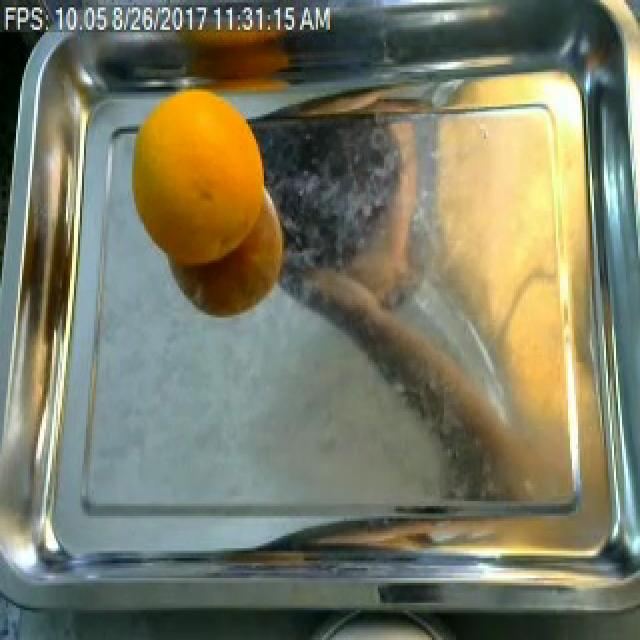Fruit: (416, 104, 584, 362), (122, 84, 286, 280)
